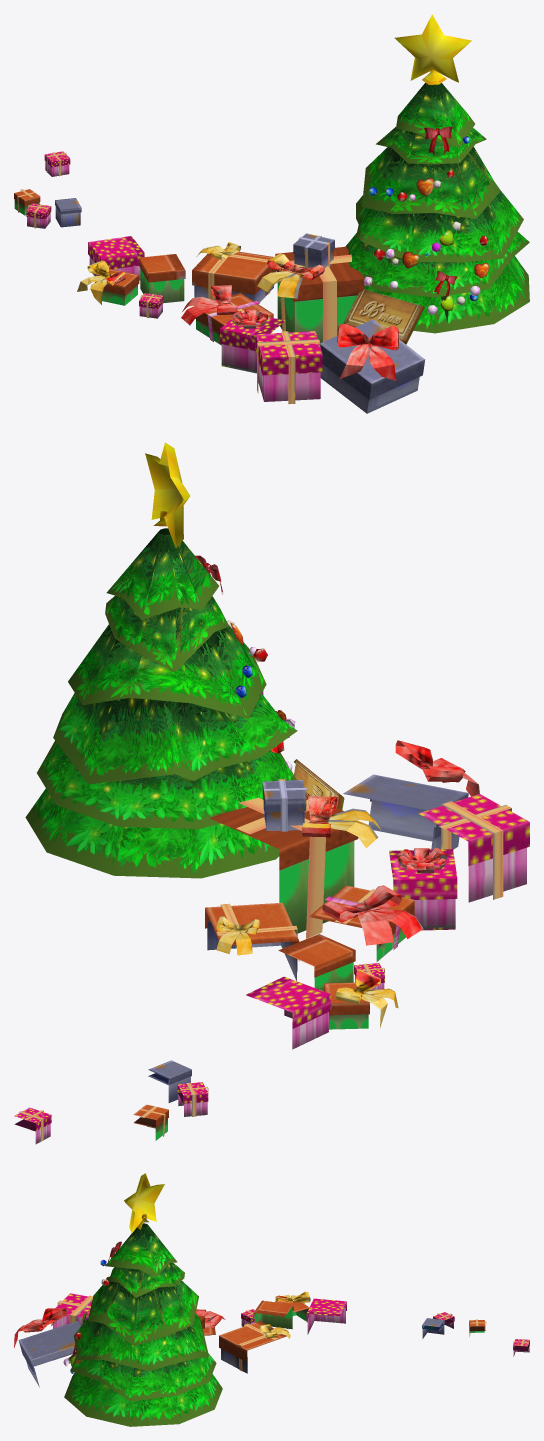
File: shengdanshu.FBX
3 views of the same model, one above another, from view 1: azimuth 30°, elevation 25°; view 2: azimuth 150°, elevation 25°; view 3: azimuth 270°, elevation 25° (orthographic). The views are drawn at different scales.
Visible parts, largest first — view 1: Box07, Object05, Object106, Object107; view 2: Box07, Object05, Object107, Object106; view 3: Box07, Object05, Object106, Object107.
Part boxes in pixels (x1=…): Box07: x1=343, y1=83, x2=529, y2=344; Object05: x1=77, y1=233, x2=425, y2=413; Object106: x1=394, y1=14, x2=471, y2=84; Object107: x1=14, y1=151, x2=81, y2=228; Box07: x1=25, y1=528, x2=344, y2=878; Object05: x1=205, y1=740, x2=529, y2=1049; Object107: x1=14, y1=1060, x2=208, y2=1144; Object106: x1=145, y1=442, x2=190, y2=548; Box07: x1=63, y1=1223, x2=222, y2=1426; Object05: x1=14, y1=1291, x2=346, y2=1387; Object106: x1=124, y1=1173, x2=164, y2=1232; Object107: x1=422, y1=1312, x2=529, y2=1356.
Size of the model in its own units: 661 by 574 by 1077.
